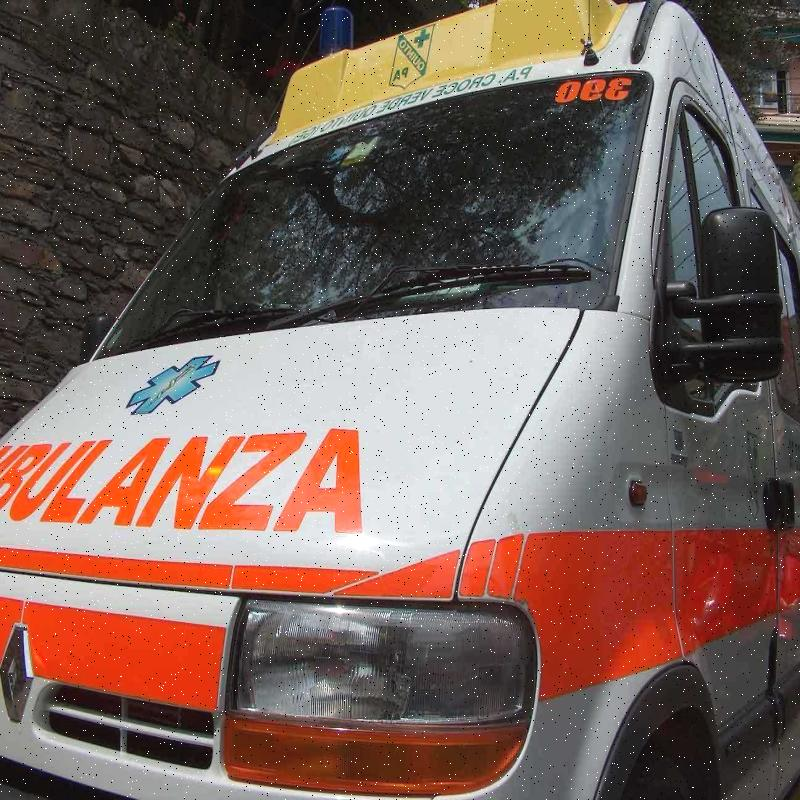AmbulanceSiren: (314, 7, 356, 92)
